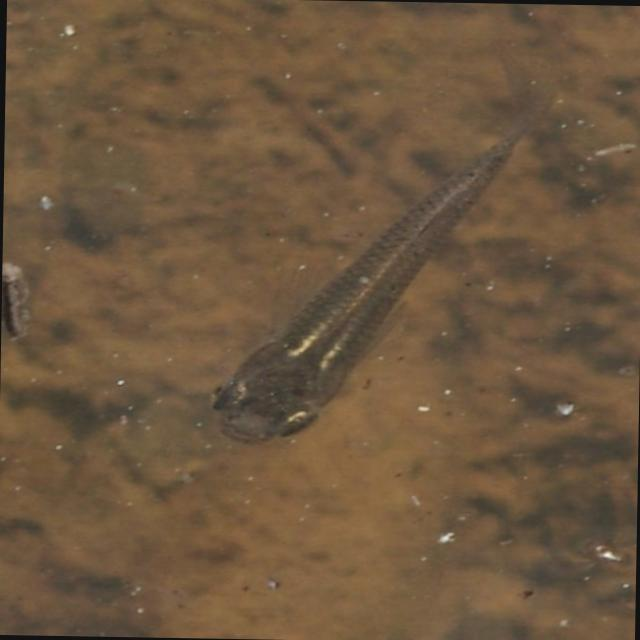Sivrisinek Baligi: (201, 107, 533, 453)
